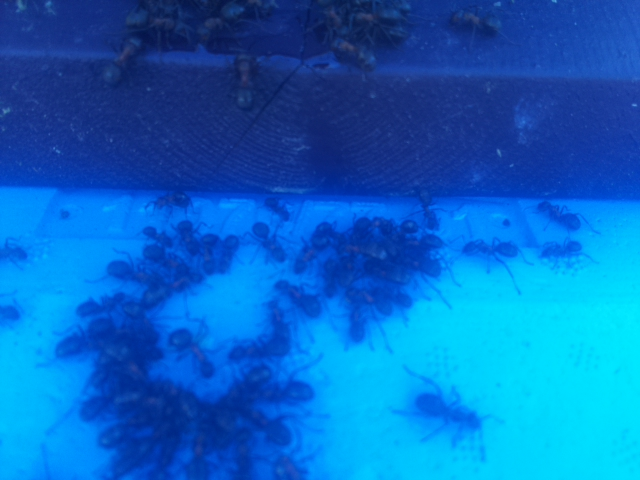ant: (93, 23, 152, 94), (325, 28, 383, 76), (444, 4, 504, 41)
